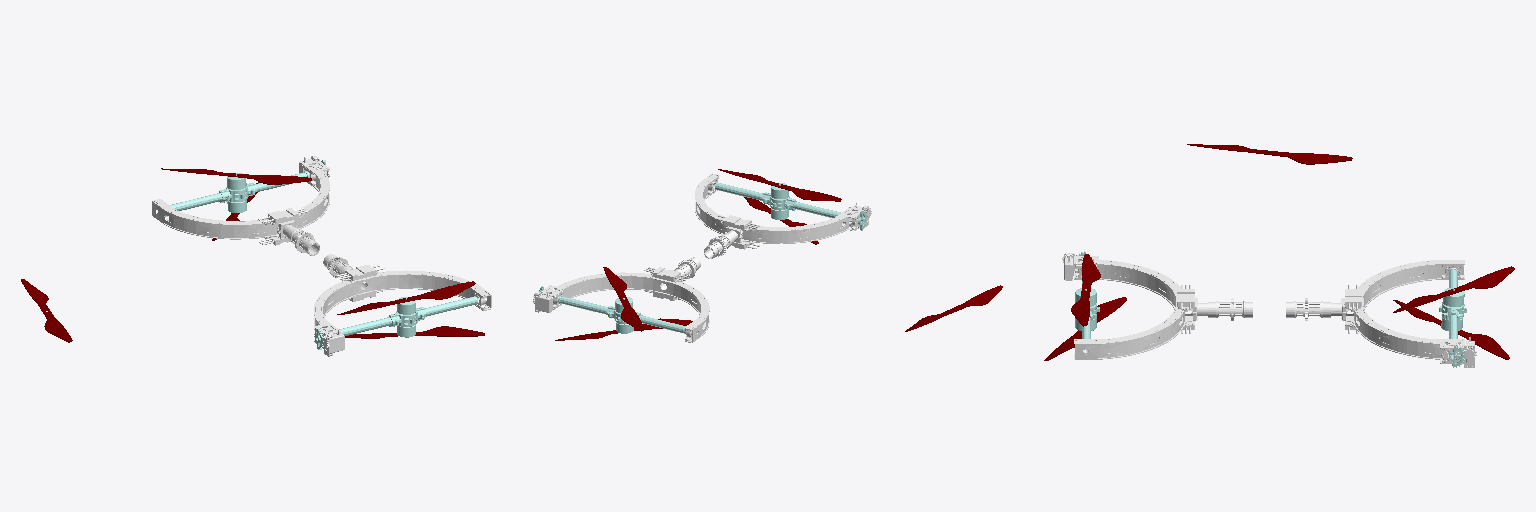
The robot description file, URDF, robot "HDJQR-0102-0055.SLDASM":
<?xml version="1.0" encoding="utf-8"?>
<!-- This URDF was automatically created by SolidWorks to URDF Exporter! Originally created by Stephen Brawner (brawner@gmail.com) 
     Commit Version: 1.6.0-4-g7f85cfe  Build Version: 1.6.7995.38578
     For more information, please see http://wiki.ros.org/sw_urdf_exporter -->
<robot
  name="HDJQR-0102-0055.SLDASM">
  <link
    name="base_link">
    <inertial>
      <origin
        xyz="0.0359209078495765 -0.000473046542141413 -0.0390188140995077"
        rpy="0 0 0" />
      <mass
        value="5.95599417730644" />
      <inertia
        ixx="0.00533272269270679"
        ixy="2.89212568524455E-06"
        ixz="8.78234888917817E-06"
        iyy="0.0172139094269325"
        iyz="-1.16537498103387E-07"
        izz="0.0202509310236266" />
    </inertial>
    <visual>
      <origin
        xyz="0 0 0"
        rpy="0 0 0" />
      <geometry>
        <mesh
          filename="package://HDJQR-0102-0055.SLDASM/meshes/base_link.STL" />
      </geometry>
      <material
        name="">
        <color
          rgba="1 1 1 1" />
      </material>
    </visual>
    <collision>
      <origin
        xyz="0 0 0"
        rpy="0 0 0" />
      <geometry>
        <mesh
          filename="package://HDJQR-0102-0055.SLDASM/meshes/base_link.STL" />
      </geometry>
    </collision>
  </link>
  <link
    name="xy5">
    <inertial>
      <origin
        xyz="1.10057046868778E-06 1.87880393909268E-07 0.000708802641875526"
        rpy="0 0 0" />
      <mass
        value="0.0289694368154207" />
      <inertia
        ixx="2.46211877538045E-05"
        ixy="7.99436536745056E-05"
        ixz="-5.30787855086926E-10"
        iyy="0.000301588660504413"
        iyz="-4.95301464177069E-09"
        izz="0.000325993711929158" />
    </inertial>
    <visual>
      <origin
        xyz="0 0 0"
        rpy="0 0 0" />
      <geometry>
        <mesh
          filename="package://HDJQR-0102-0055.SLDASM/meshes/xy5.STL" />
      </geometry>
      <material
        name="">
        <color
          rgba="0.501960784313725 0 0 1" />
      </material>
    </visual>
    <collision>
      <origin
        xyz="0 0 0"
        rpy="0 0 0" />
      <geometry>
        <mesh
          filename="package://HDJQR-0102-0055.SLDASM/meshes/xy5.STL" />
      </geometry>
    </collision>
  </link>
  <joint
    name="xyj5"
    type="continuous">
    <origin
      xyz="-0.767999999999999 0 0.014875"
      rpy="0 0 -1.5707963267949" />
    <parent
      link="base_link" />
    <child
      link="xy5" />
    <axis
      xyz="0 0 -1" />
    <limit
      lower="-10"
      upper="10"
      effort="0"
      velocity="0" />
  </joint>
  <link
    name="r2">
    <inertial>
      <origin
        xyz="7.145044812484E-05 -0.0392313627048175 0.160772984085926"
        rpy="0 0 0" />
      <mass
        value="0.83968612942946" />
      <inertia
        ixx="0.00673719731912822"
        ixy="4.96408511596157E-07"
        ixz="-2.07903920871089E-07"
        iyy="0.00159925504363006"
        iyz="9.0048362865675E-05"
        izz="0.00527979400014687" />
    </inertial>
    <visual>
      <origin
        xyz="0 0 0"
        rpy="0 0 0" />
      <geometry>
        <mesh
          filename="package://HDJQR-0102-0055.SLDASM/meshes/r2.STL" />
      </geometry>
      <material
        name="">
        <color
          rgba="1 1 1 1" />
      </material>
    </visual>
    <collision>
      <origin
        xyz="0 0 0"
        rpy="0 0 0" />
      <geometry>
        <mesh
          filename="package://HDJQR-0102-0055.SLDASM/meshes/r2.STL" />
      </geometry>
    </collision>
  </link>
  <joint
    name="rj2"
    type="revolute">
    <origin
      xyz="0 -0.085500008330717 -0.0128750149542008"
      rpy="1.5707963267949 1.5707963267949 0" />
    <parent
      link="base_link" />
    <child
      link="r2" />
    <axis
      xyz="0 0 -1" />
    <limit
      lower="-1.57"
      upper="1.57"
      effort="0"
      velocity="0" />
  </joint>
  <link
    name="r1">
    <inertial>
      <origin
        xyz="9.30466671190677E-05 2.2349813872391E-05 -0.223443844620229"
        rpy="0 0 0" />
      <mass
        value="0.484385739464898" />
      <inertia
        ixx="0.00096555050899191"
        ixy="6.08818609812896E-12"
        ixz="-1.05724087454146E-08"
        iyy="0.00099854740112098"
        iyz="-2.08713841902879E-11"
        izz="8.66172797694243E-05" />
    </inertial>
    <visual>
      <origin
        xyz="0 0 0"
        rpy="0 0 0" />
      <geometry>
        <mesh
          filename="package://HDJQR-0102-0055.SLDASM/meshes/r1.STL" />
      </geometry>
      <material
        name="">
        <color
          rgba="0.780392156862745 0.972549019607843 0.956862745098039 1" />
      </material>
    </visual>
    <collision>
      <origin
        xyz="0 0 0"
        rpy="0 0 0" />
      <geometry>
        <mesh
          filename="package://HDJQR-0102-0055.SLDASM/meshes/r1.STL" />
      </geometry>
    </collision>
  </link>
  <joint
    name="rj1"
    type="revolute">
    <origin
      xyz="0 -0.244700003721606 0.324499997917315"
      rpy="1.5707963267949 -1.5707963267949 0" />
    <parent
      link="r2" />
    <child
      link="r1" />
    <axis
      xyz="0 0 -1" />
    <limit
      lower="-1.57"
      upper="1.57"
      effort="0"
      velocity="0" />
  </joint>
  <link
    name="xy1">
    <inertial>
      <origin
        xyz="4.01606228161988E-07 -1.03676963247319E-06 0.000693207458100073"
        rpy="0 0 0" />
      <mass
        value="0.0289694368059278" />
      <inertia
        ixx="0.000321597463119797"
        ixy="-2.11860431161984E-05"
        ixz="-4.96185450871973E-09"
        iyy="4.61238620509702E-06"
        iyz="-4.40689538559192E-10"
        izz="0.000325993712991362" />
    </inertial>
    <visual>
      <origin
        xyz="0 0 0"
        rpy="0 0 0" />
      <geometry>
        <mesh
          filename="package://HDJQR-0102-0055.SLDASM/meshes/xy1.STL" />
      </geometry>
      <material
        name="">
        <color
          rgba="0.501960784313725 0 0 1" />
      </material>
    </visual>
    <collision>
      <origin
        xyz="0 0 0"
        rpy="0 0 0" />
      <geometry>
        <mesh
          filename="package://HDJQR-0102-0055.SLDASM/meshes/xy1.STL" />
      </geometry>
    </collision>
  </link>
  <joint
    name="xyj1"
    type="continuous">
    <origin
      xyz="0 0.0450000117002133 -0.244699989620948"
      rpy="-1.5707963267949 0 0" />
    <parent
      link="r1" />
    <child
      link="xy1" />
    <axis
      xyz="0 0 -1" />
    <limit
      lower="-10"
      upper="10"
      effort="0"
      velocity="0" />
  </joint>
  <link
    name="xy2">
    <inertial>
      <origin
        xyz="-8.47437764350811E-07 7.11773426216617E-07 0.000693223402547287"
        rpy="0 0 0" />
      <mass
        value="0.0289694369330827" />
      <inertia
        ixx="0.000265508792989947"
        ixy="0.000122809515593011"
        ixz="4.13130942589234E-09"
        iyy="6.07010418128929E-05"
        iyz="2.78311667320247E-09"
        izz="0.00032599369851842" />
    </inertial>
    <visual>
      <origin
        xyz="0 0 0"
        rpy="0 0 0" />
      <geometry>
        <mesh
          filename="package://HDJQR-0102-0055.SLDASM/meshes/xy2.STL" />
      </geometry>
      <material
        name="">
        <color
          rgba="0.501960784313725 0 0 1" />
      </material>
    </visual>
    <collision>
      <origin
        xyz="0 0 0"
        rpy="0 0 0" />
      <geometry>
        <mesh
          filename="package://HDJQR-0102-0055.SLDASM/meshes/xy2.STL" />
      </geometry>
    </collision>
  </link>
  <joint
    name="xyj2"
    type="continuous">
    <origin
      xyz="0 -0.0449999882998028 -0.244699989620977"
      rpy="1.5707963267949 0 0" />
    <parent
      link="r1" />
    <child
      link="xy2" />
    <axis
      xyz="0 0 -1" />
    <limit
      lower="-10"
      upper="10"
      effort="0"
      velocity="0" />
  </joint>
  <link
    name="l2">
    <inertial>
      <origin
        xyz="6.75249363630628E-05 0.0326712514232789 -0.165320554733758"
        rpy="0 0 0" />
      <mass
        value="0.863668298517312" />
      <inertia
        ixx="0.00673902873710257"
        ixy="-4.92568061426216E-07"
        ixz="2.17778645272729E-07"
        iyy="0.00160098462316541"
        iyz="9.00526875971764E-05"
        izz="0.00528161503003662" />
    </inertial>
    <visual>
      <origin
        xyz="0 0 0"
        rpy="0 0 0" />
      <geometry>
        <mesh
          filename="package://HDJQR-0102-0055.SLDASM/meshes/l2.STL" />
      </geometry>
      <material
        name="">
        <color
          rgba="1 1 1 1" />
      </material>
    </visual>
    <collision>
      <origin
        xyz="0 0 0"
        rpy="0 0 0" />
      <geometry>
        <mesh
          filename="package://HDJQR-0102-0055.SLDASM/meshes/l2.STL" />
      </geometry>
    </collision>
  </link>
  <joint
    name="lj2"
    type="revolute">
    <origin
      xyz="0 0.0855000000000096 -0.0128750000030618"
      rpy="1.5707963267949 1.5707963267949 0" />
    <parent
      link="base_link" />
    <child
      link="l2" />
    <axis
      xyz="0 0 1" />
    <limit
      lower="-1.57"
      upper="1.57"
      effort="0"
      velocity="0" />
  </joint>
  <link
    name="l1">
    <inertial>
      <origin
        xyz="-9.34016457480591E-05 1.41486477625574E-06 0.223434306719957"
        rpy="0 0 0" />
      <mass
        value="0.483858324842276" />
      <inertia
        ixx="0.000965663792506058"
        ixy="-1.95651602215628E-06"
        ixz="-1.05551677508614E-08"
        iyy="0.000998429929110158"
        iyz="-6.07227059769482E-10"
        izz="8.66141539644699E-05" />
    </inertial>
    <visual>
      <origin
        xyz="0 0 0"
        rpy="0 0 0" />
      <geometry>
        <mesh
          filename="package://HDJQR-0102-0055.SLDASM/meshes/l1.STL" />
      </geometry>
      <material
        name="">
        <color
          rgba="0.780392156862745 0.972549019607843 0.956862745098039 1" />
      </material>
    </visual>
    <collision>
      <origin
        xyz="0 0 0"
        rpy="0 0 0" />
      <geometry>
        <mesh
          filename="package://HDJQR-0102-0055.SLDASM/meshes/l1.STL" />
      </geometry>
    </collision>
  </link>
  <joint
    name="lj1"
    type="revolute">
    <origin
      xyz="0 0.244699999614929 -0.3245"
      rpy="1.5707963267949 -1.5707963267949 0" />
    <parent
      link="l2" />
    <child
      link="l1" />
    <axis
      xyz="0 0 1" />
    <limit
      lower="-1.57"
      upper="1.57"
      effort="0"
      velocity="0" />
  </joint>
  <link
    name="xy3">
    <inertial>
      <origin
        xyz="-2.95163165686674E-07 -6.82056824052742E-08 0.000693233658107077"
        rpy="0 0 0" />
      <mass
        value="0.028968805386666" />
      <inertia
        ixx="0.000159669455210579"
        ixy="-0.000159862473220251"
        ixz="-3.61041142619143E-09"
        iyy="0.000166533190134299"
        iyz="3.44534353469012E-09"
        izz="0.000325986536730944" />
    </inertial>
    <visual>
      <origin
        xyz="0 0 0"
        rpy="0 0 0" />
      <geometry>
        <mesh
          filename="package://HDJQR-0102-0055.SLDASM/meshes/xy3.STL" />
      </geometry>
      <material
        name="">
        <color
          rgba="0.501960784313725 0 0 1" />
      </material>
    </visual>
    <collision>
      <origin
        xyz="0 0 0"
        rpy="0 0 0" />
      <geometry>
        <mesh
          filename="package://HDJQR-0102-0055.SLDASM/meshes/xy3.STL" />
      </geometry>
    </collision>
  </link>
  <joint
    name="xyj3"
    type="continuous">
    <origin
      xyz="0.00267276914357811 -0.0449205556636787 0.244699998785246"
      rpy="1.5707963267949 0 0.059429866219687" />
    <parent
      link="l1" />
    <child
      link="xy3" />
    <axis
      xyz="0 0 -1" />
    <limit
      lower="-10"
      upper="10"
      effort="0"
      velocity="0" />
  </joint>
  <link
    name="xy4">
    <inertial>
      <origin
        xyz="-3.35068185752796E-07 -1.09872108884365E-07 0.000693235043219081"
        rpy="0 0 0" />
      <mass
        value="0.0289687904125558" />
      <inertia
        ixx="0.000147650497863949"
        ixy="-0.000159151017812699"
        ixz="-3.47969396847373E-09"
        iyy="0.000178552056154144"
        iyz="3.57807804044448E-09"
        izz="0.000325986445578563" />
    </inertial>
    <visual>
      <origin
        xyz="0 0 0"
        rpy="0 0 0" />
      <geometry>
        <mesh
          filename="package://HDJQR-0102-0055.SLDASM/meshes/xy4.STL" />
      </geometry>
      <material
        name="">
        <color
          rgba="0.501960784313725 0 0 1" />
      </material>
    </visual>
    <collision>
      <origin
        xyz="0 0 0"
        rpy="0 0 0" />
      <geometry>
        <mesh
          filename="package://HDJQR-0102-0055.SLDASM/meshes/xy4.STL" />
      </geometry>
    </collision>
  </link>
  <joint
    name="xyj4"
    type="continuous">
    <origin
      xyz="-0.00267277084968975 0.0449205552057727 0.244699998787766"
      rpy="-1.5707963267949 0 0.0594298662196879" />
    <parent
      link="l1" />
    <child
      link="xy4" />
    <axis
      xyz="0 0 -1" />
    <limit
      lower="-10"
      upper="10"
      effort="0"
      velocity="0" />
  </joint>
</robot>

--- Render facts (derived) ---
3 views of the same robot in one strip: view 1: azimuth 30°, elevation 25°; view 2: azimuth 150°, elevation 25°; view 3: azimuth 270°, elevation 25° (orthographic).
Robot: HDJQR-0102-0055.SLDASM — 10 links, 9 joints (4 revolute, 5 continuous); root link base_link; default pose: every joint at zero.
Links seen in each view (by area): view 1: l2, r2, r1, l1, xy1, xy5, xy4, xy2; view 2: r2, l2, r1, l1, xy4, xy1, xy5; view 3: l2, r2, l1, xy5, xy4, xy1, xy3, xy2, r1.
Boxes of the visible links, bbox=[...] form: l2: bbox=[152, 155, 329, 255]; r2: bbox=[314, 254, 491, 356]; r1: bbox=[315, 296, 477, 349]; l1: bbox=[170, 160, 325, 212]; xy1: bbox=[337, 281, 475, 314]; xy5: bbox=[21, 279, 72, 342]; xy4: bbox=[161, 168, 311, 184]; xy2: bbox=[345, 326, 484, 338]; r2: bbox=[695, 173, 871, 258]; l2: bbox=[533, 257, 709, 342]; r1: bbox=[715, 182, 866, 230]; l1: bbox=[539, 286, 685, 333]; xy4: bbox=[603, 267, 644, 331]; xy1: bbox=[718, 169, 841, 201]; xy5: bbox=[905, 285, 1002, 331]; l2: bbox=[1286, 260, 1476, 367]; r2: bbox=[1062, 253, 1252, 359]; l1: bbox=[1439, 269, 1466, 367]; xy5: bbox=[1187, 144, 1352, 164]; xy4: bbox=[1393, 266, 1514, 312]; xy1: bbox=[1071, 254, 1100, 326]; xy3: bbox=[1393, 300, 1509, 359]; xy2: bbox=[1044, 297, 1126, 360]; r1: bbox=[1075, 251, 1099, 349].
Size in the robot's own frame: 1.07 by 1.05 by 0.1169 metres.
9 mesh visuals loaded from 10 distinct referenced files (9 binary STL); not drawn: 1 (reference not matched to a file when rendering).
